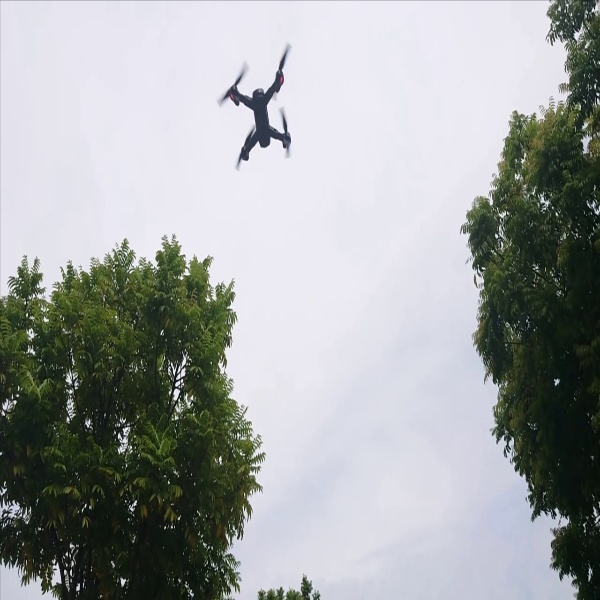drone: (208, 33, 306, 175)
